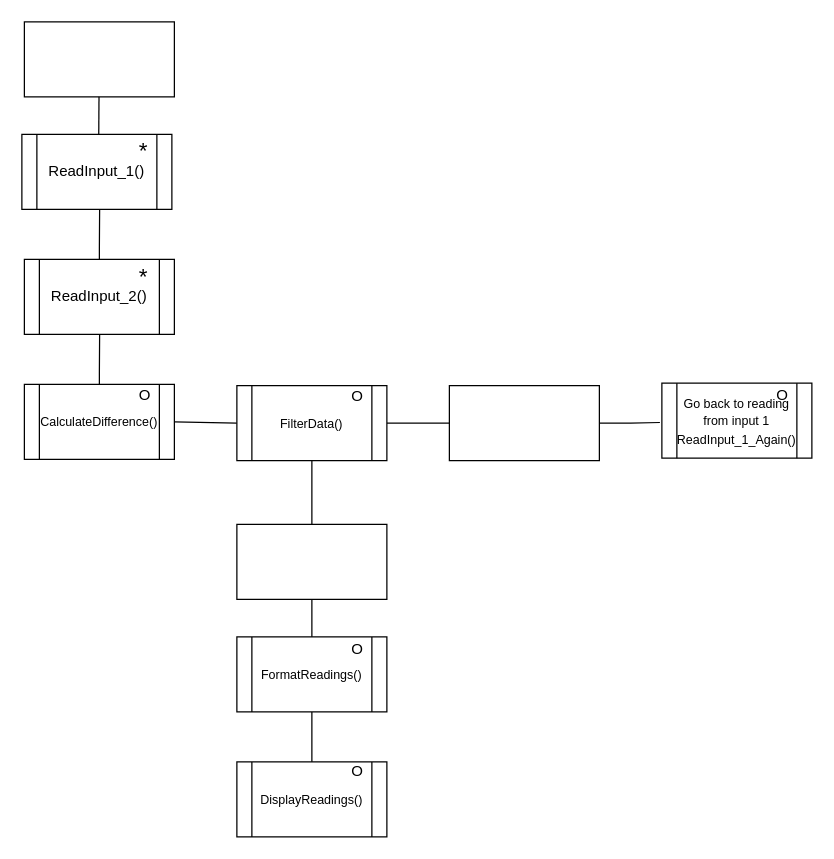
This 834x859 diagram has some shape labels left out. The centre of each missing label's shape, as x and y in pixels:
BPM Machine: point 98,59
Irrational Data: point 523,422
No Irrational Data: point 311,561
